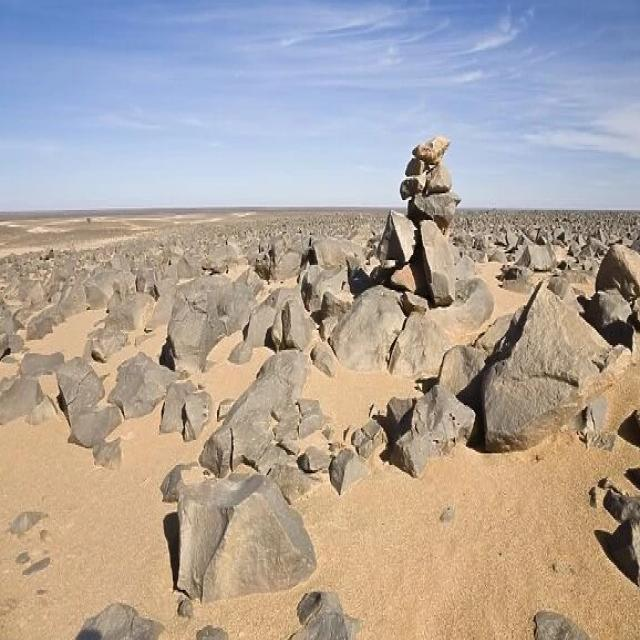rocks: (0, 213, 384, 362), (376, 137, 460, 305), (456, 210, 640, 251)
stone: (481, 282, 607, 450), (177, 475, 316, 602), (200, 350, 304, 475), (161, 277, 254, 370), (392, 385, 474, 475), (330, 285, 404, 368), (109, 352, 178, 417), (390, 310, 450, 377), (288, 592, 359, 640), (73, 602, 162, 640), (161, 380, 211, 440), (58, 357, 103, 422), (230, 297, 275, 362), (420, 222, 455, 305), (597, 518, 640, 585), (476, 303, 526, 355), (0, 377, 56, 423), (585, 288, 640, 333), (438, 345, 486, 395), (595, 245, 640, 298), (71, 403, 123, 447), (376, 210, 415, 262), (272, 300, 313, 348), (409, 192, 457, 230), (535, 613, 590, 640), (603, 488, 640, 522), (413, 137, 450, 167), (426, 163, 451, 193), (455, 257, 475, 282), (401, 177, 422, 198), (405, 157, 424, 175)
white-sand: (213, 445, 640, 640), (0, 423, 197, 640)
